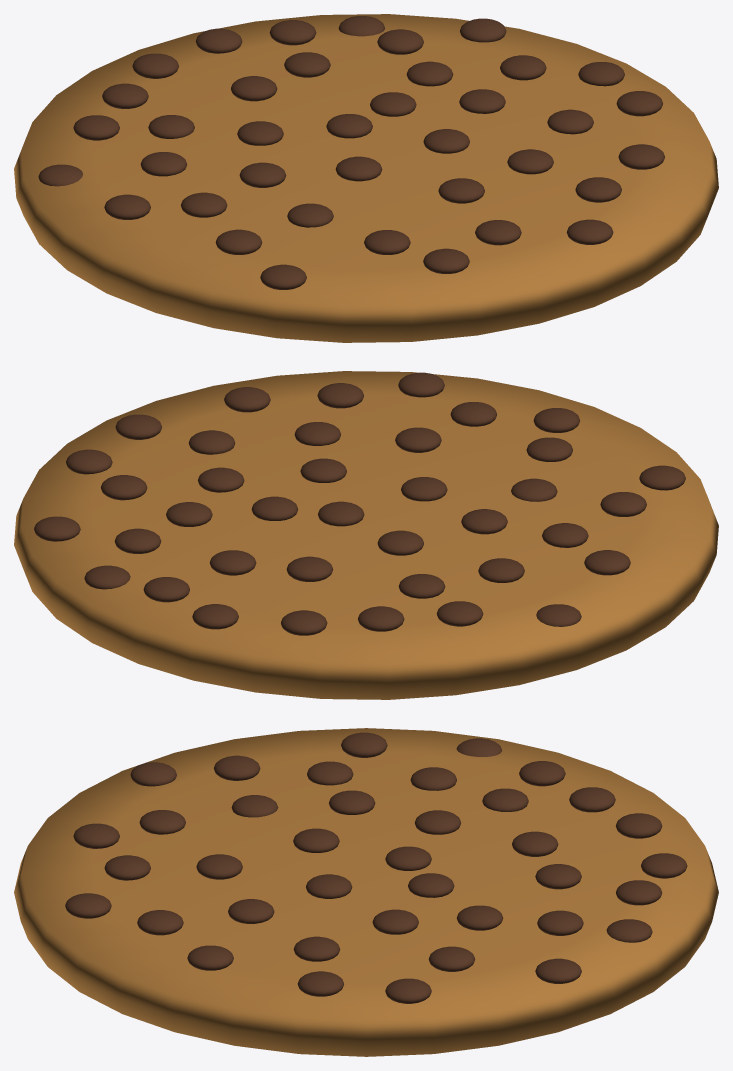
Rendered from Cookie.fbx.
3 views of the same model, one above another, from view 1: azimuth 30°, elevation 25°; view 2: azimuth 150°, elevation 25°; view 3: azimuth 270°, elevation 25° (orthographic).
Parts seen in each view (by area): view 1: koki; view 2: koki; view 3: koki.
Boxes of the visible parts, bbox=[...] form: koki: bbox=[14, 14, 718, 342]; koki: bbox=[14, 371, 718, 699]; koki: bbox=[14, 728, 718, 1056].
Bounding box in the file's own units: 340 × 40.93 × 340.
